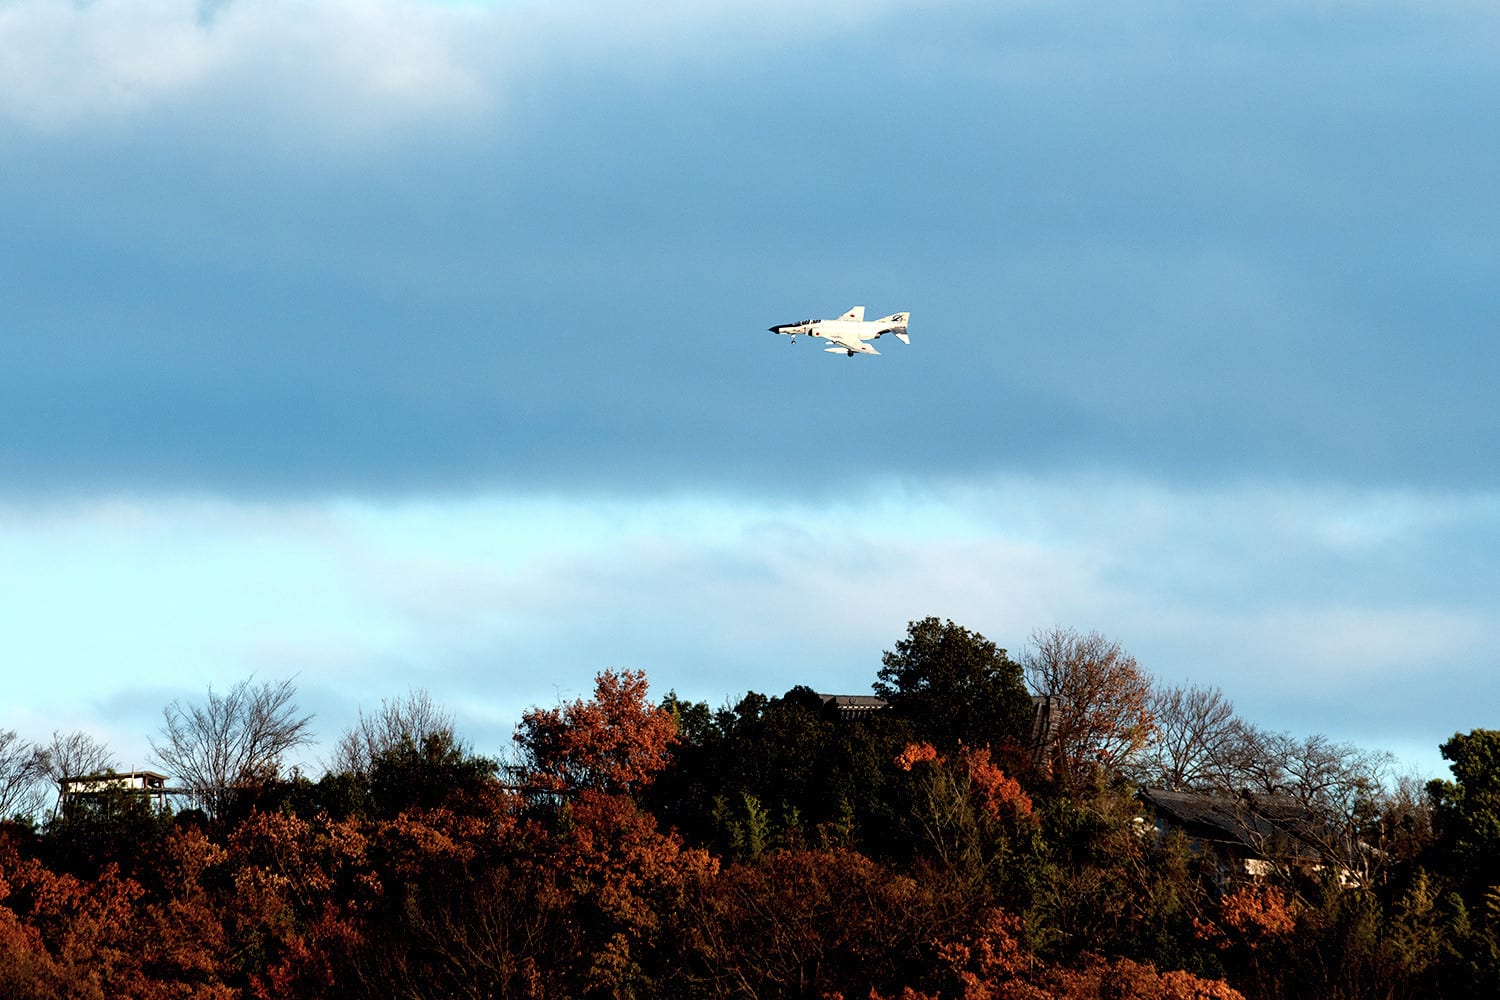F4: (760, 305, 911, 357)
